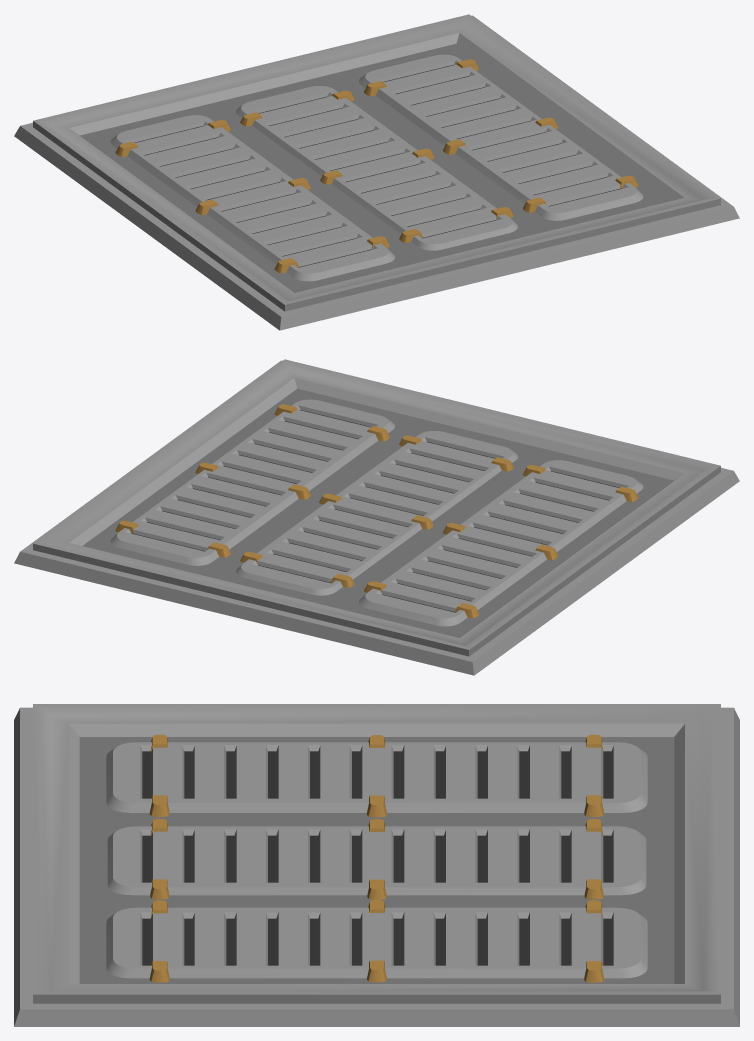
3 views of the same model, one above another, from view 1: azimuth 30°, elevation 25°; view 2: azimuth 150°, elevation 25°; view 3: azimuth 270°, elevation 25° (orthographic). The views are drawn at different scales.
Parts seen in each view (by area): view 1: RoofTile_Vents; view 2: RoofTile_Vents; view 3: RoofTile_Vents.
Part boxes in pixels (<box>): RoofTile_Vents: <box>14,14,739,330</box>; RoofTile_Vents: <box>14,359,739,675</box>; RoofTile_Vents: <box>14,704,739,1026</box>.
Bounding box in the file's own units: 2 × 0.0773 × 2.
